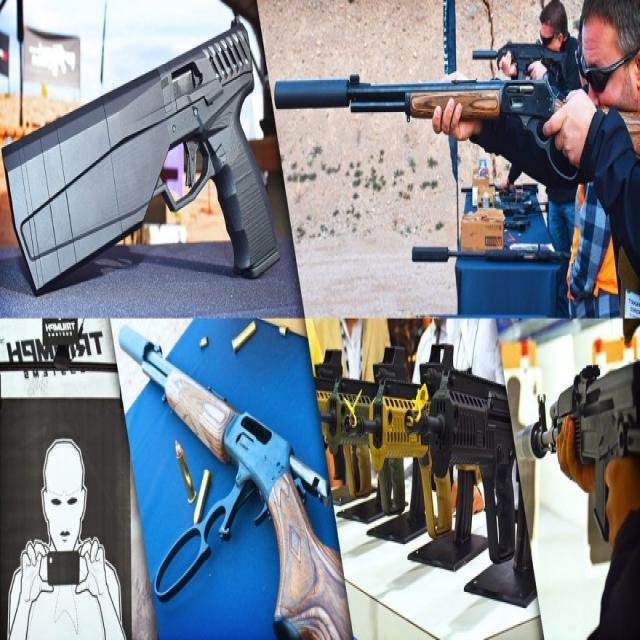gun: (117, 322, 328, 628), (271, 33, 640, 187)
